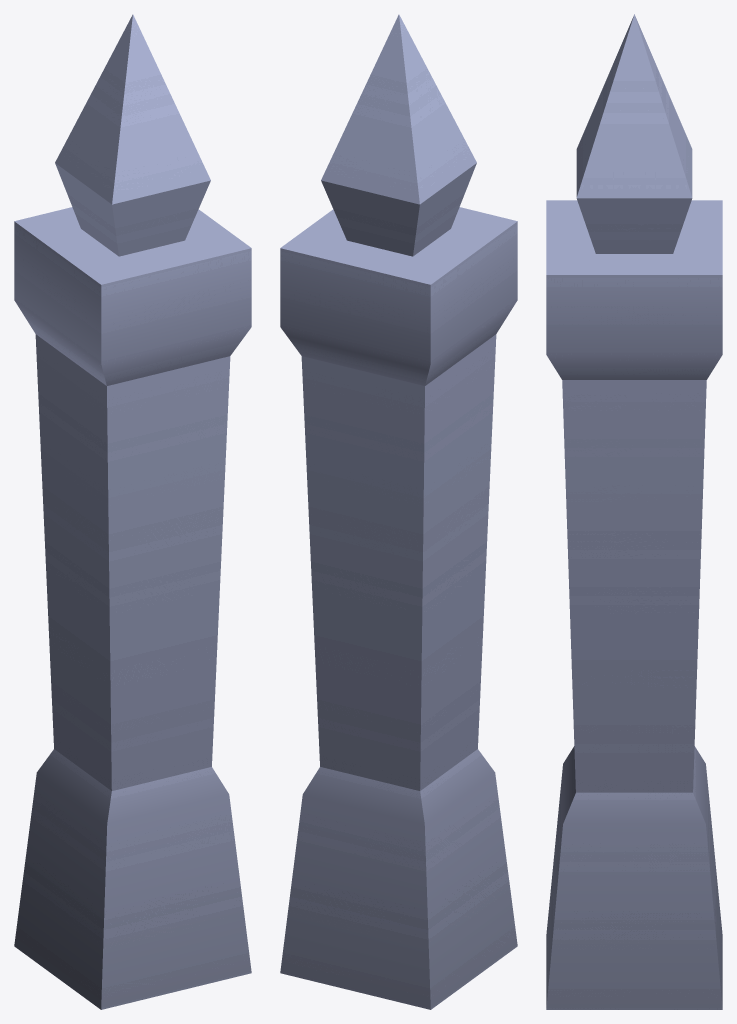
Rendered from pillar-small.glb.
3 renders of one model, left to right at view 1: azimuth 30°, elevation 25°; view 2: azimuth 150°, elevation 25°; view 3: azimuth 270°, elevation 25°, orthographic.
Visible parts, largest first — view 1: pillar-small; view 2: pillar-small; view 3: pillar-small.
Boxes of the visible parts, <box> form: pillar-small: <box>14,14,251,1009</box>; pillar-small: <box>280,14,517,1009</box>; pillar-small: <box>546,14,722,1009</box>.
Bounding box in the file's own units: 0.3 × 1.8 × 0.3.
1 material, 1 textured.
